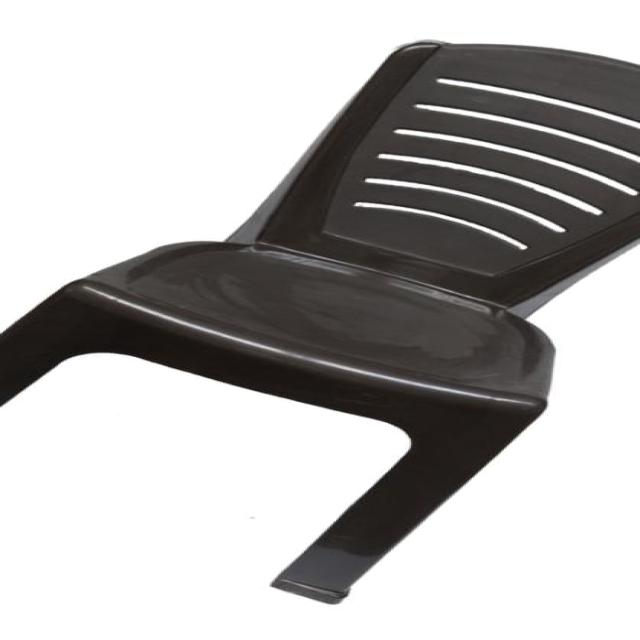Chair: (4, 39, 640, 611)
